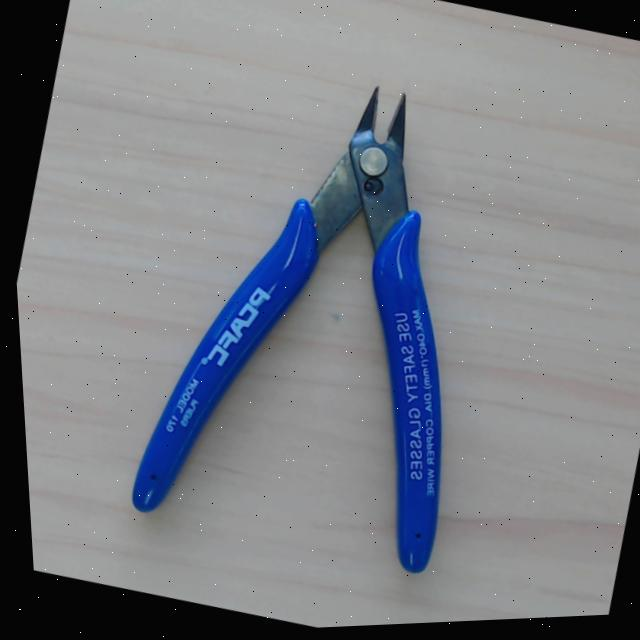Tang-Potong-Biru: (129, 56, 522, 574)
